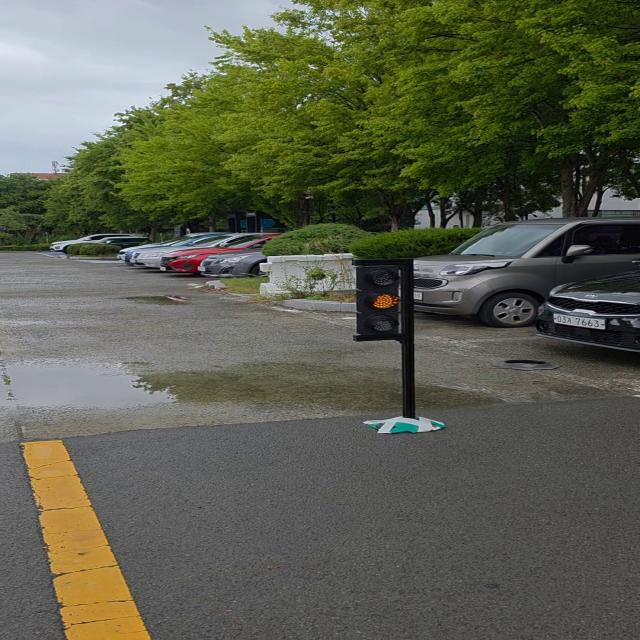yellow: (358, 260, 412, 338)
